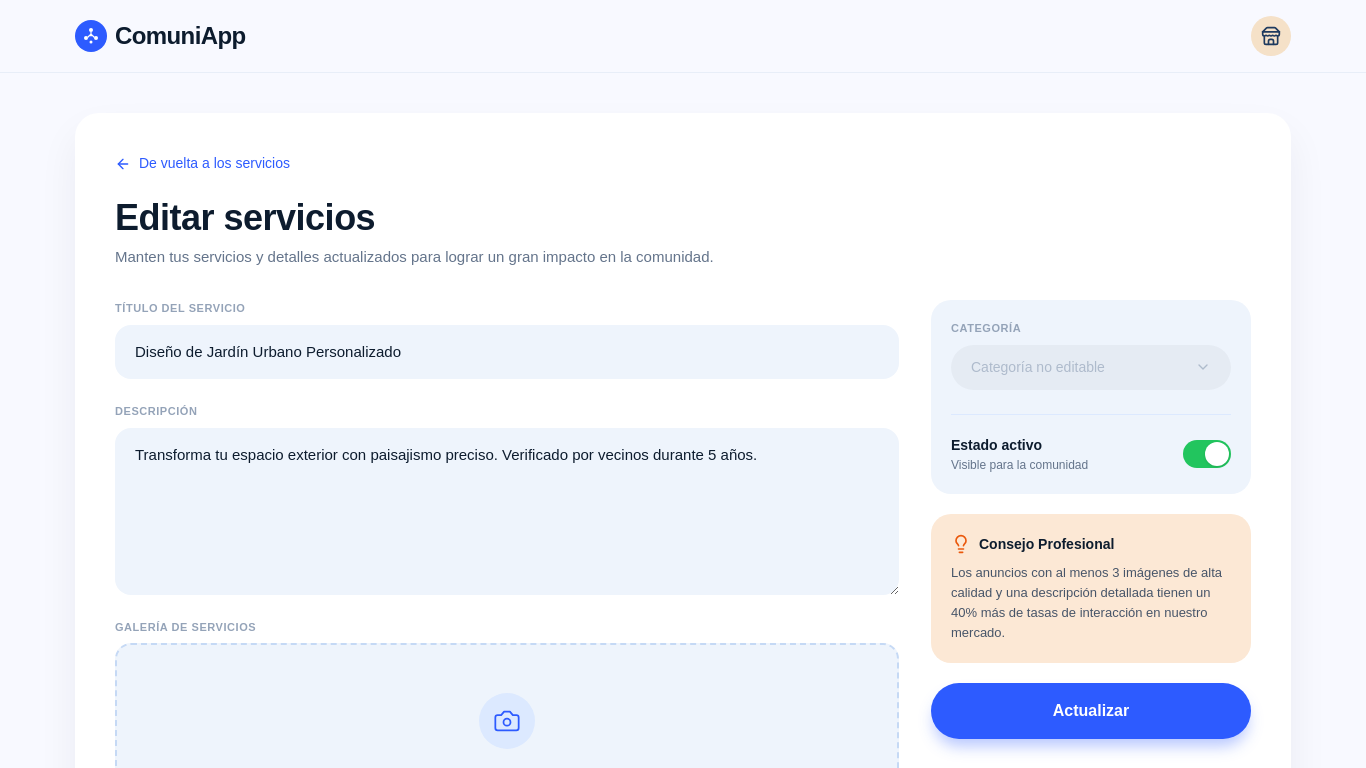
Test: EmprendedorEditarServicios › actualiza el servicio y muestra modal de éxito
What coordinates should you click on to do the following:
click the button "Actualizar"
I would click on:
 (1091, 710)
Its box is [931,682,1251,738].
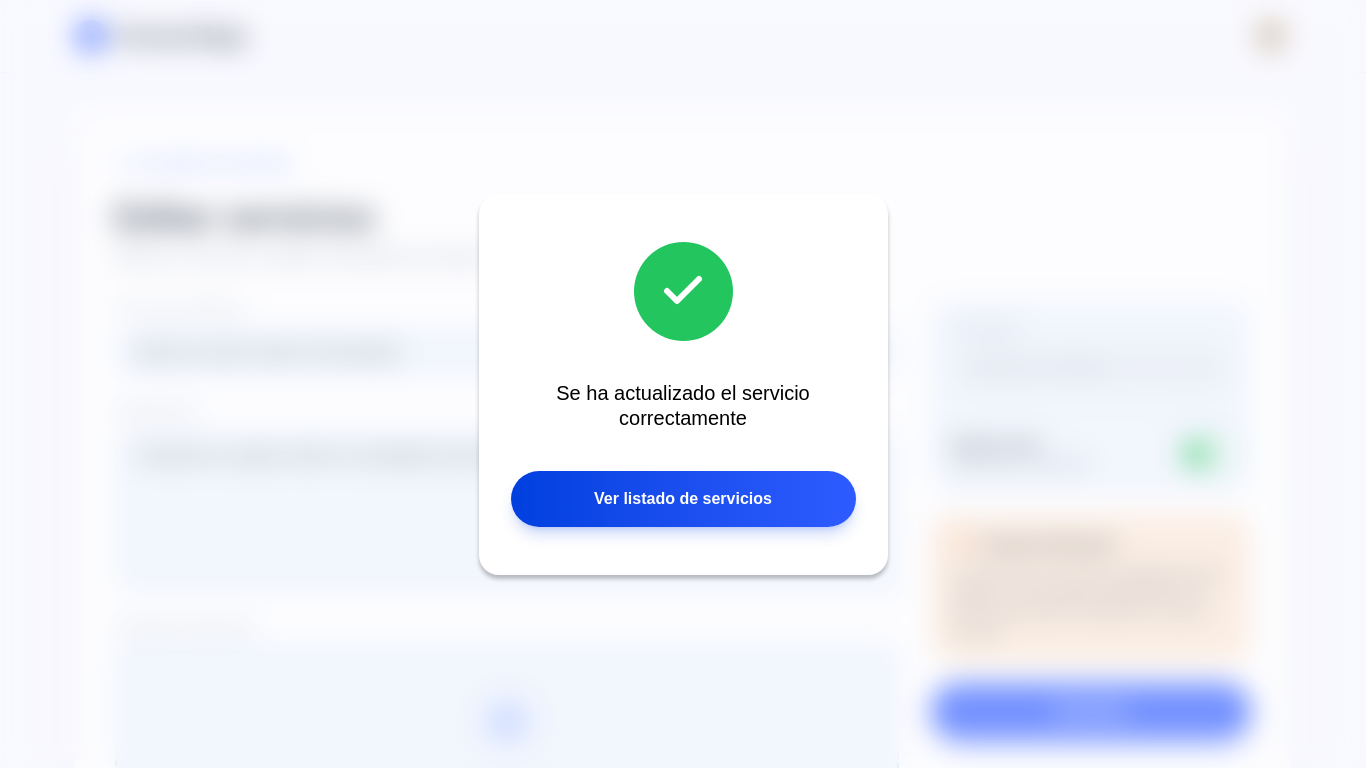
Expected: the text "Se ha actualizado el servicio correctamente" is shown, [556,382,810,428]
